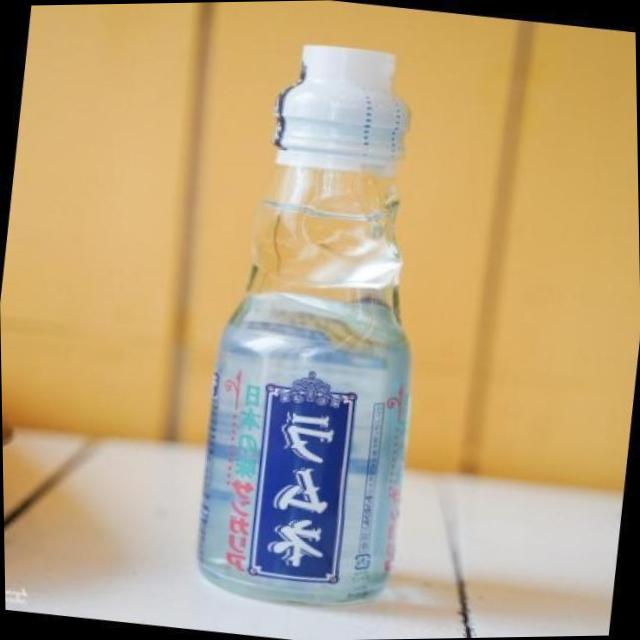BotolPlastik: (187, 40, 420, 608)
